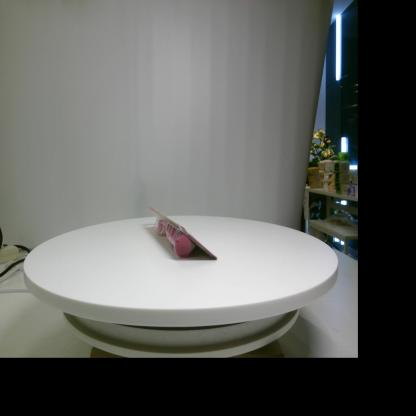Personal Hygiene: (148, 206, 218, 260)
